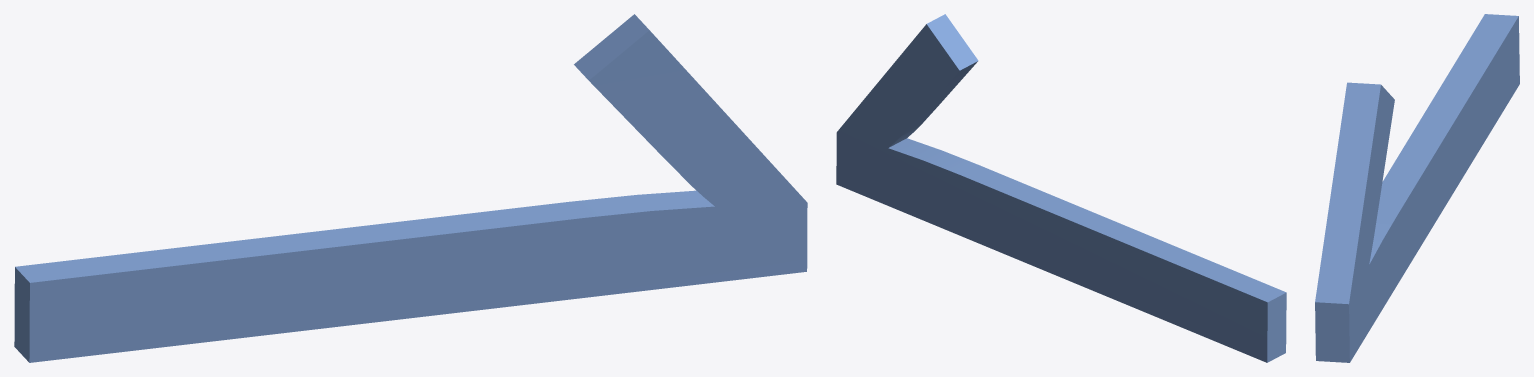
File: New_Number_1.gltf
3 renders of one model, left to right at view 1: azimuth 30°, elevation 25°; view 2: azimuth 150°, elevation 25°; view 3: azimuth 270°, elevation 25°, orthographic. The views are drawn at different scales.
Parts seen in each view (by area): view 1: Part 163; view 2: Part 163; view 3: Part 163.
Part boxes in pixels (x1,y1,x2,y2): Part 163: (14,14,807,362); Part 163: (836,14,1286,362); Part 163: (1315,14,1519,362).
Size of the model in its own units: 0.00494 by 0.00182 by 0.00152.
